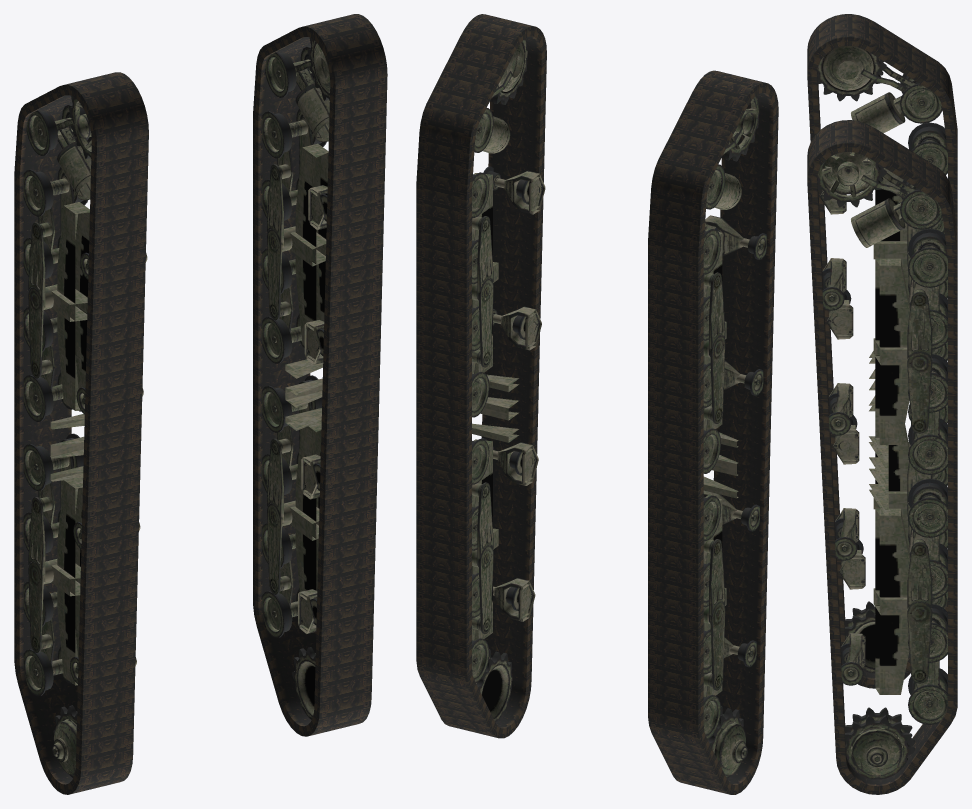
Rendered from Chassis.glb.
The picture shows the model from 3 angles, left to right: view 1: azimuth 30°, elevation 25°; view 2: azimuth 150°, elevation 25°; view 3: azimuth 270°, elevation 25°; orthographic projection. The views are drawn at different scales.
Visible parts, largest first — view 1: set_0_group_0, set_1_group_0, set_5_group_0, set_3_group_0; view 2: set_0_group_0, set_1_group_0, set_5_group_0, set_3_group_0; view 3: set_5_group_0, set_1_group_0, set_3_group_0, set_0_group_0, set_4_group_0.
Part boxes in pixels (<box>): set_0_group_0: <box>14,72,148,794</box>; set_1_group_0: <box>253,14,387,736</box>; set_5_group_0: <box>262,38,330,719</box>; set_3_group_0: <box>23,96,147,777</box>; set_0_group_0: <box>648,70,778,794</box>; set_1_group_0: <box>416,14,546,738</box>; set_5_group_0: <box>472,39,545,722</box>; set_3_group_0: <box>703,95,766,778</box>; set_5_group_0: <box>817,152,947,779</box>; set_1_group_0: <box>807,120,957,794</box>; set_3_group_0: <box>817,46,947,673</box>; set_0_group_0: <box>807,14,957,688</box>; set_4_group_0: <box>916,369,939,438</box>.
Size of the model in its own units: 2.76 by 6.32 by 1.32.
6 materials, 6 textured.
